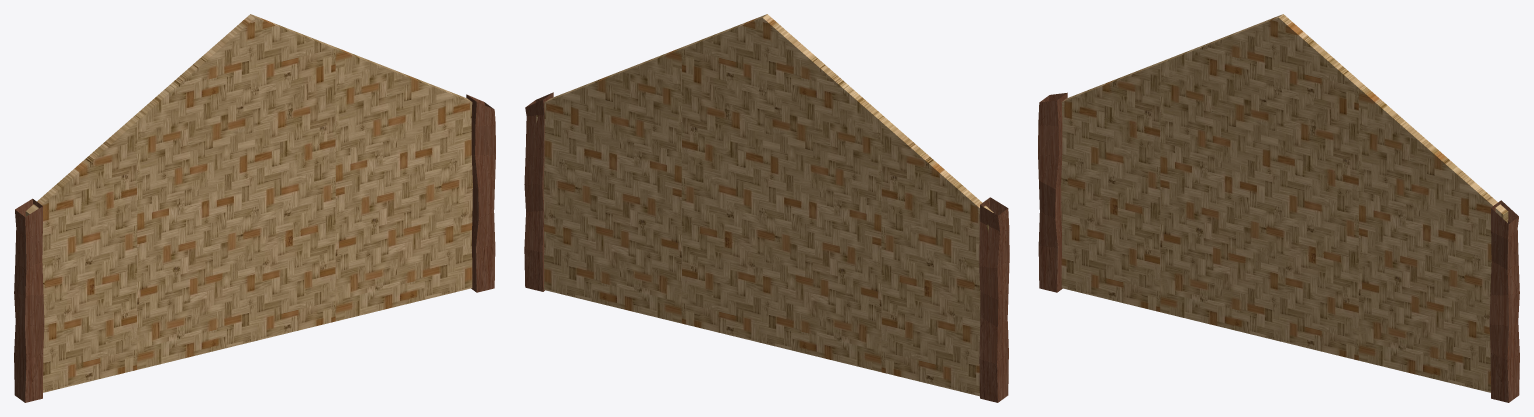
The model's file is R5_Belakang.fbx.
The picture shows the model from 3 angles, left to right: view 1: azimuth 30°, elevation 25°; view 2: azimuth 150°, elevation 25°; view 3: azimuth 330°, elevation 25°; orthographic projection.
Visible parts, largest first — view 1: Belakang_R5; view 2: Belakang_R5; view 3: Belakang_R5.
Part boxes in pixels (<box>): Belakang_R5: <box>14,14,495,402</box>; Belakang_R5: <box>524,14,1009,402</box>; Belakang_R5: <box>1038,14,1519,402</box>.
Bounding box in the file's own units: 16.58 × 10.93 × 0.7821.
Materials: 2 (2 with a texture image).
